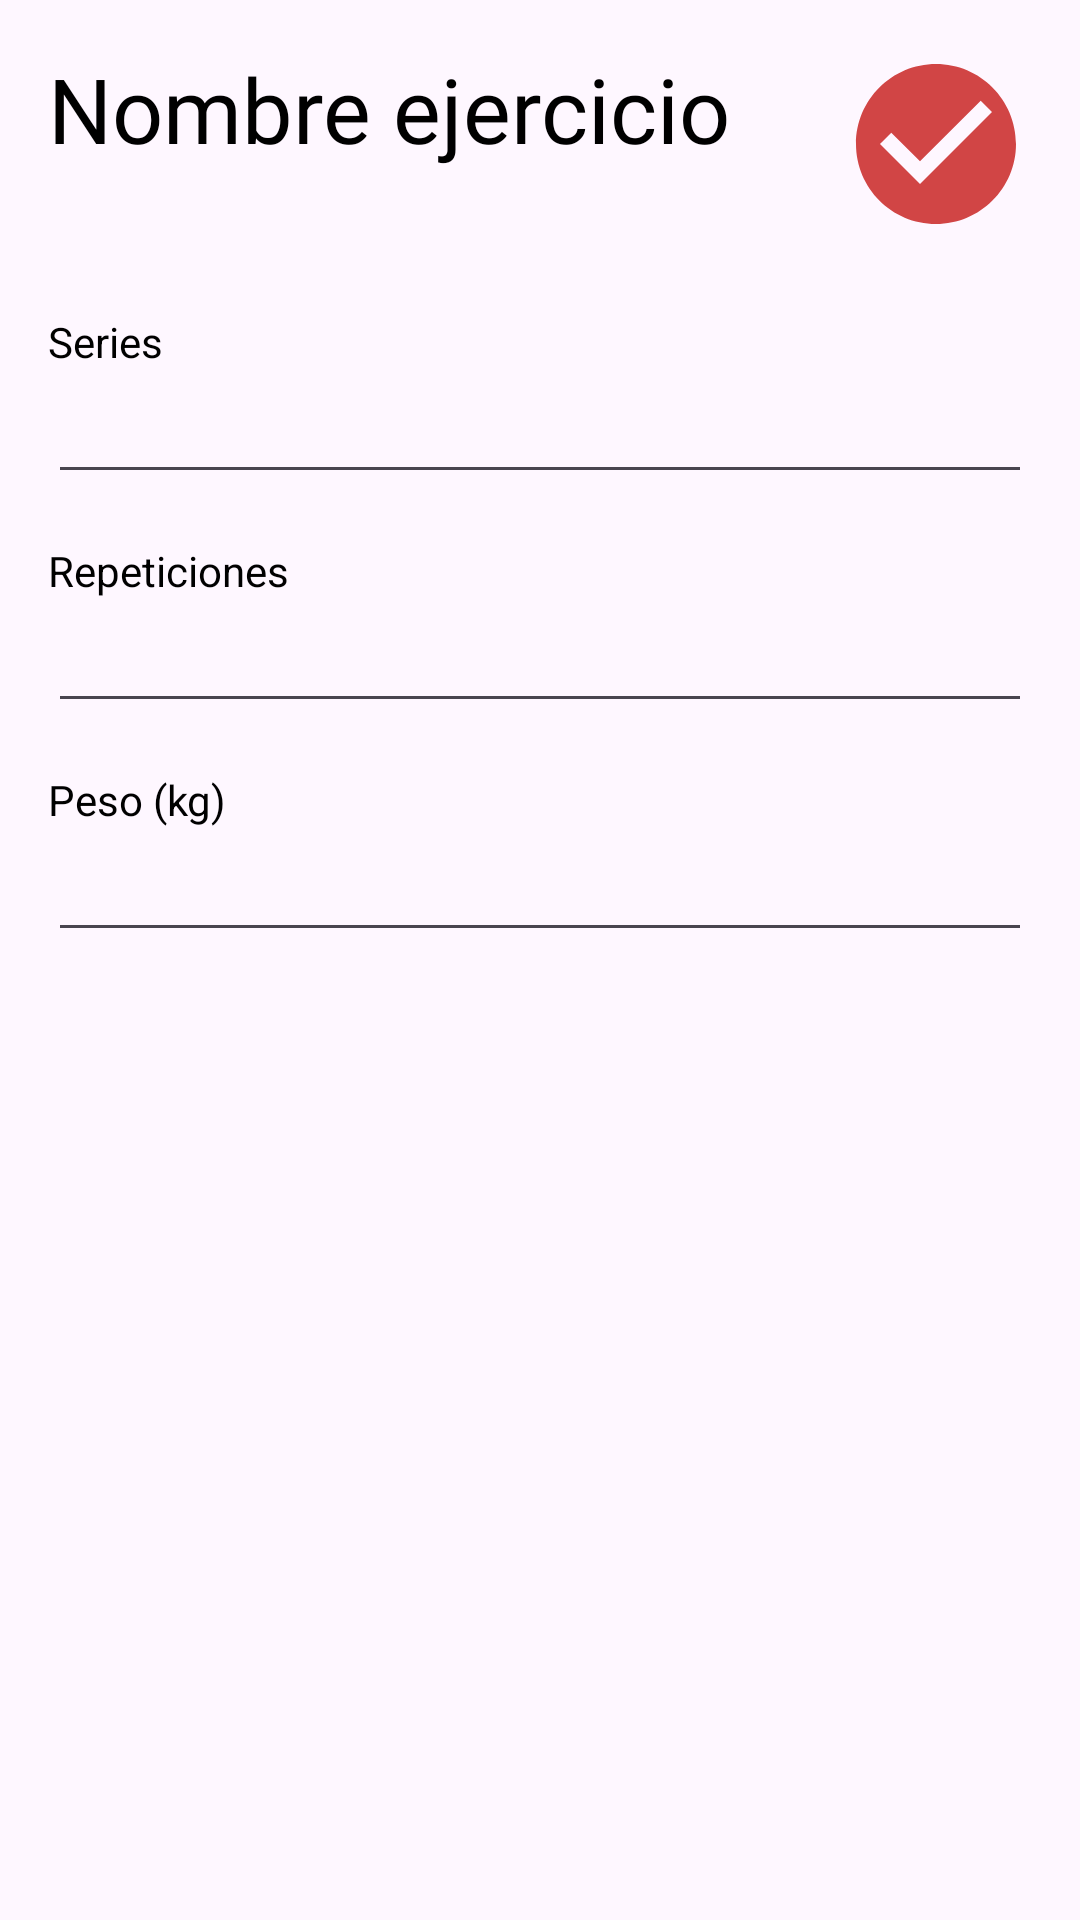

Icons on this 1080x1920 Android screen, each with the point to tap as point (x, y):
accept edit: point (936, 144)
